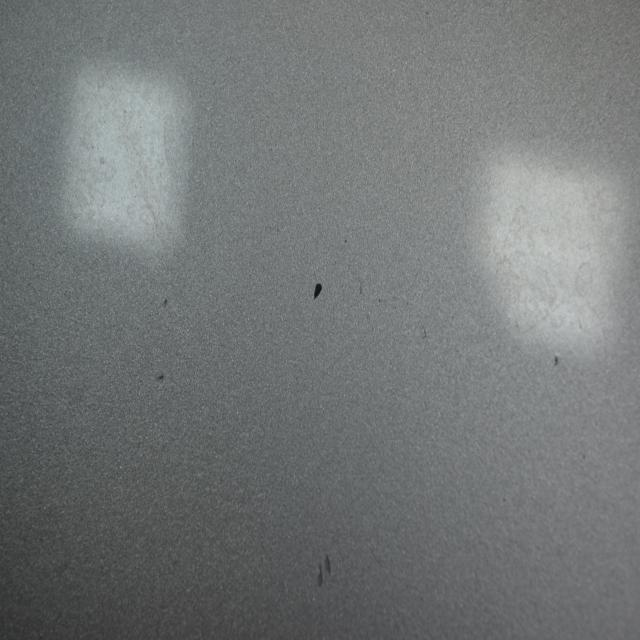dirt: (314, 556, 324, 591), (311, 277, 324, 303), (323, 553, 334, 575), (552, 351, 563, 370), (155, 368, 165, 388), (161, 293, 168, 308)
water marks: (60, 126, 158, 254), (488, 214, 562, 334), (80, 63, 171, 138), (564, 248, 605, 327), (150, 114, 185, 172)
